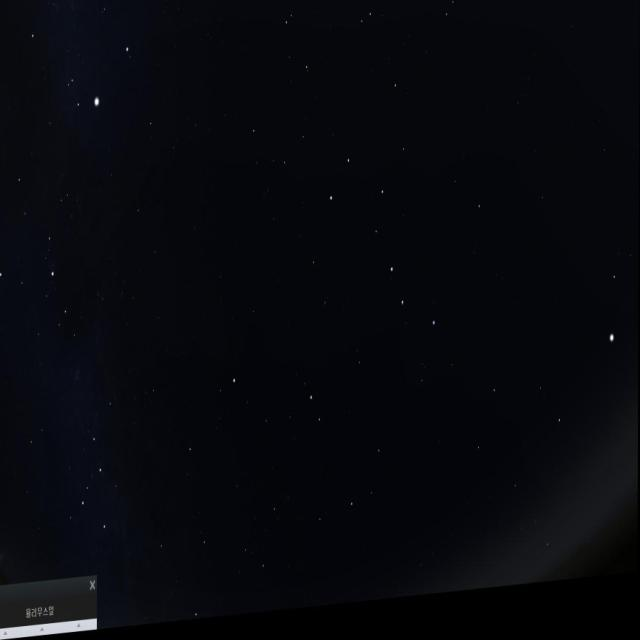cassiopeia: (67, 372, 138, 546)
ursa_major: (326, 148, 440, 355)
